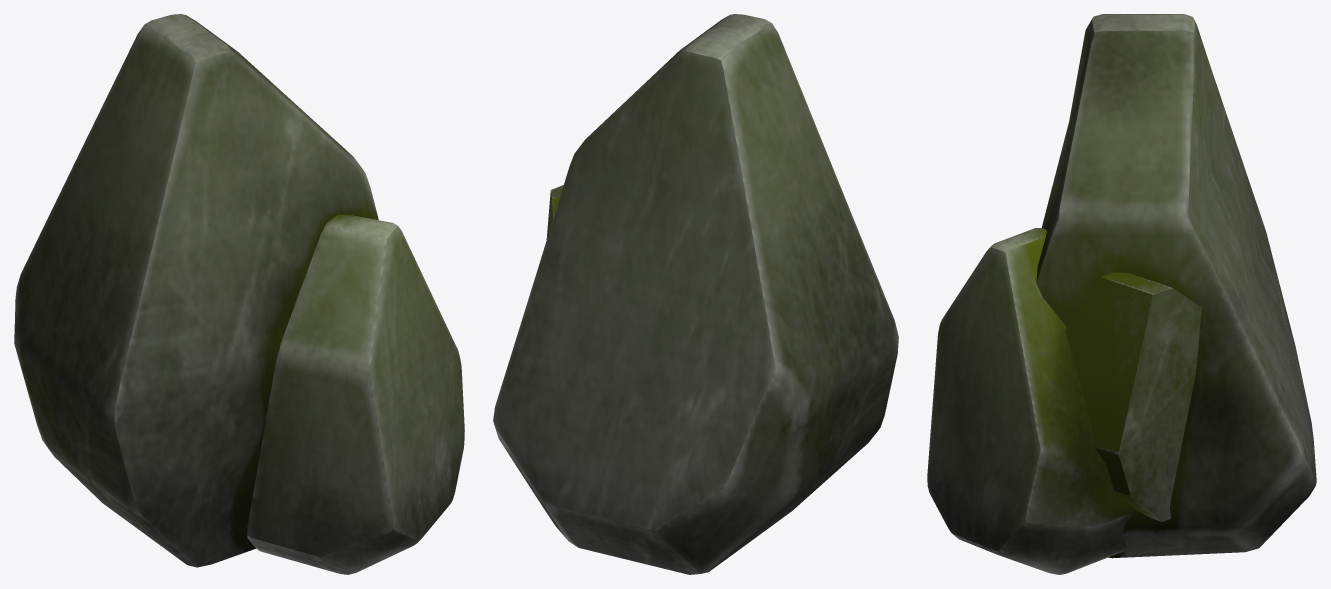
Rendered from rockSet2_unity.fbx.
3 views of the same model, side by side, from view 1: azimuth 30°, elevation 25°; view 2: azimuth 150°, elevation 25°; view 3: azimuth 270°, elevation 25° (orthographic). The views are drawn at different scales.
Visible parts, largest first — view 1: Object002; view 2: Object002; view 3: Object002.
Boxes of the visible parts, box(x1,y1,x2,y2) form: Object002: box(14, 14, 464, 574); Object002: box(493, 14, 898, 574); Object002: box(927, 14, 1316, 574).
Size of the model in its own units: 31.35 by 31.7 by 44.26.
